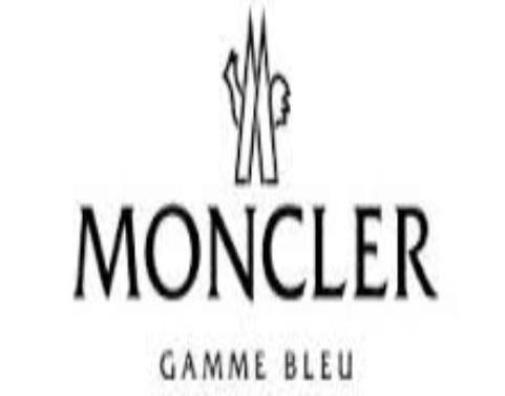MONCLER: (72, 200, 441, 302), (217, 3, 295, 188)
